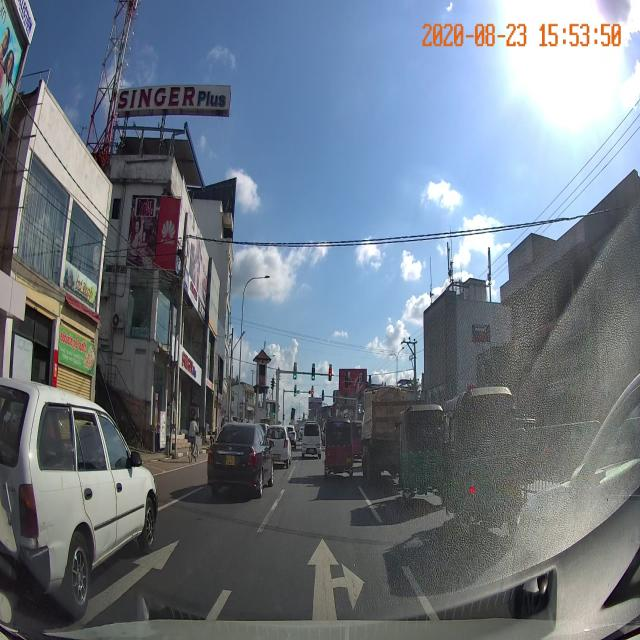forward_right: (198, 530, 445, 621), (198, 543, 445, 621), (198, 553, 444, 619), (198, 559, 445, 620)
